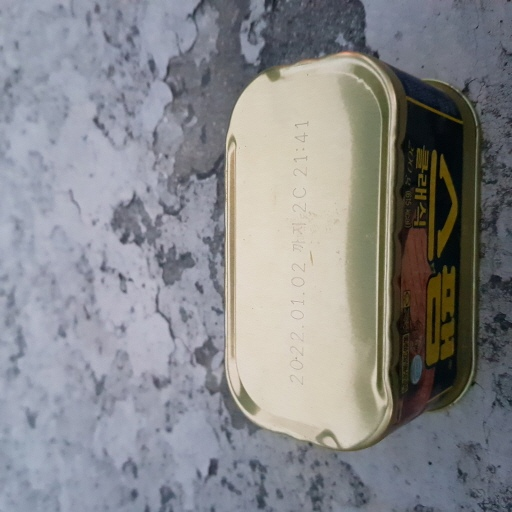Metal_2: (221, 47, 481, 450)
